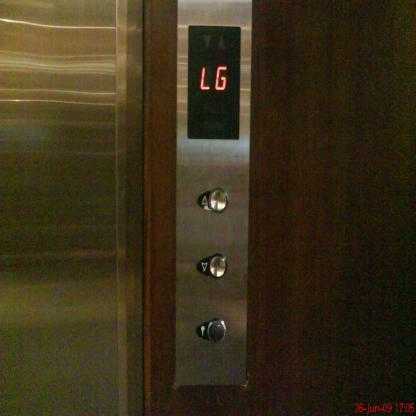down: (195, 250, 228, 280)
key: (194, 316, 227, 344)
led: (185, 22, 243, 142)
up: (196, 185, 229, 214)
